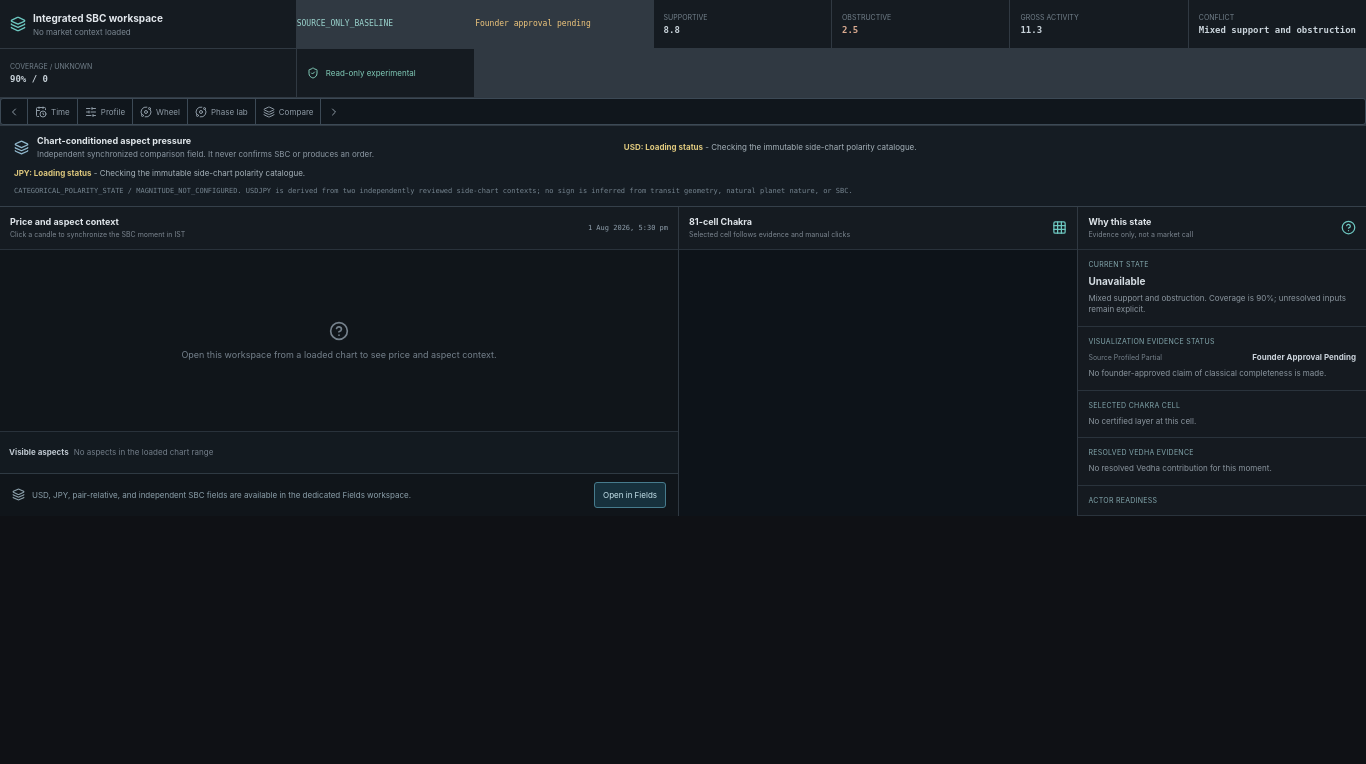
Test: ProductFirstSbcWorkspace score suppression › retains exact scalar geometry only in the source-profiled partial baseline
Step 1. Click the button "Wheel" → (161,112), box x1=133 y1=99 x2=188 y2=124
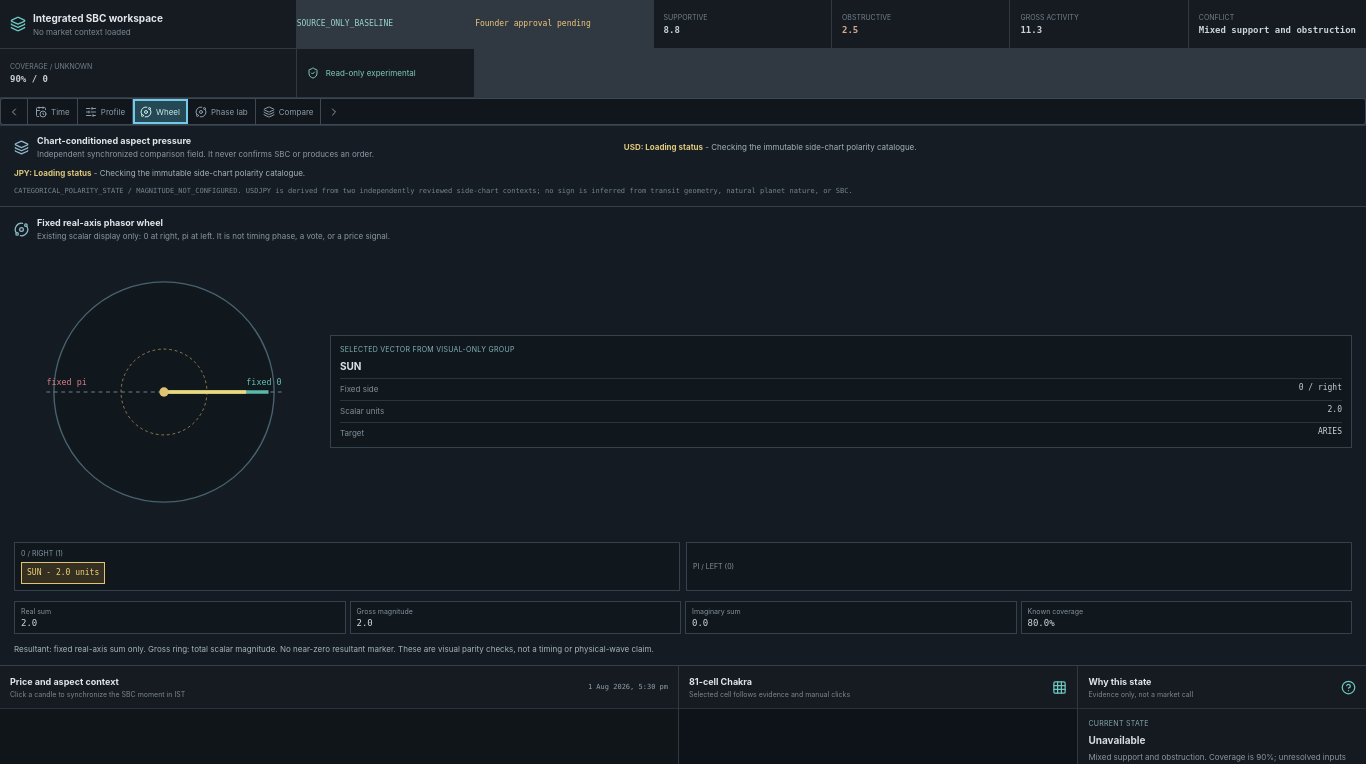
Expected: the text "Founder approval pending" is shown, x1=475 y1=19 x2=591 y2=28
Expected: the text "2.0 units" is shown, x1=21 y1=562 x2=105 y2=584
